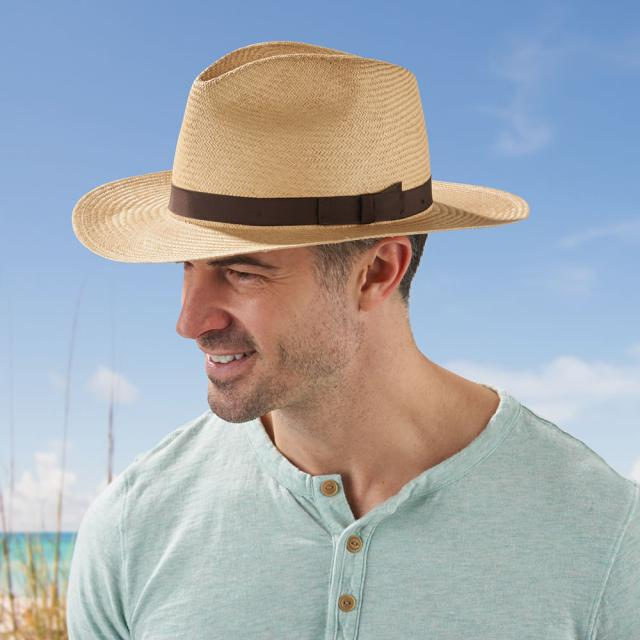illegal_helmet: (67, 34, 539, 428)
